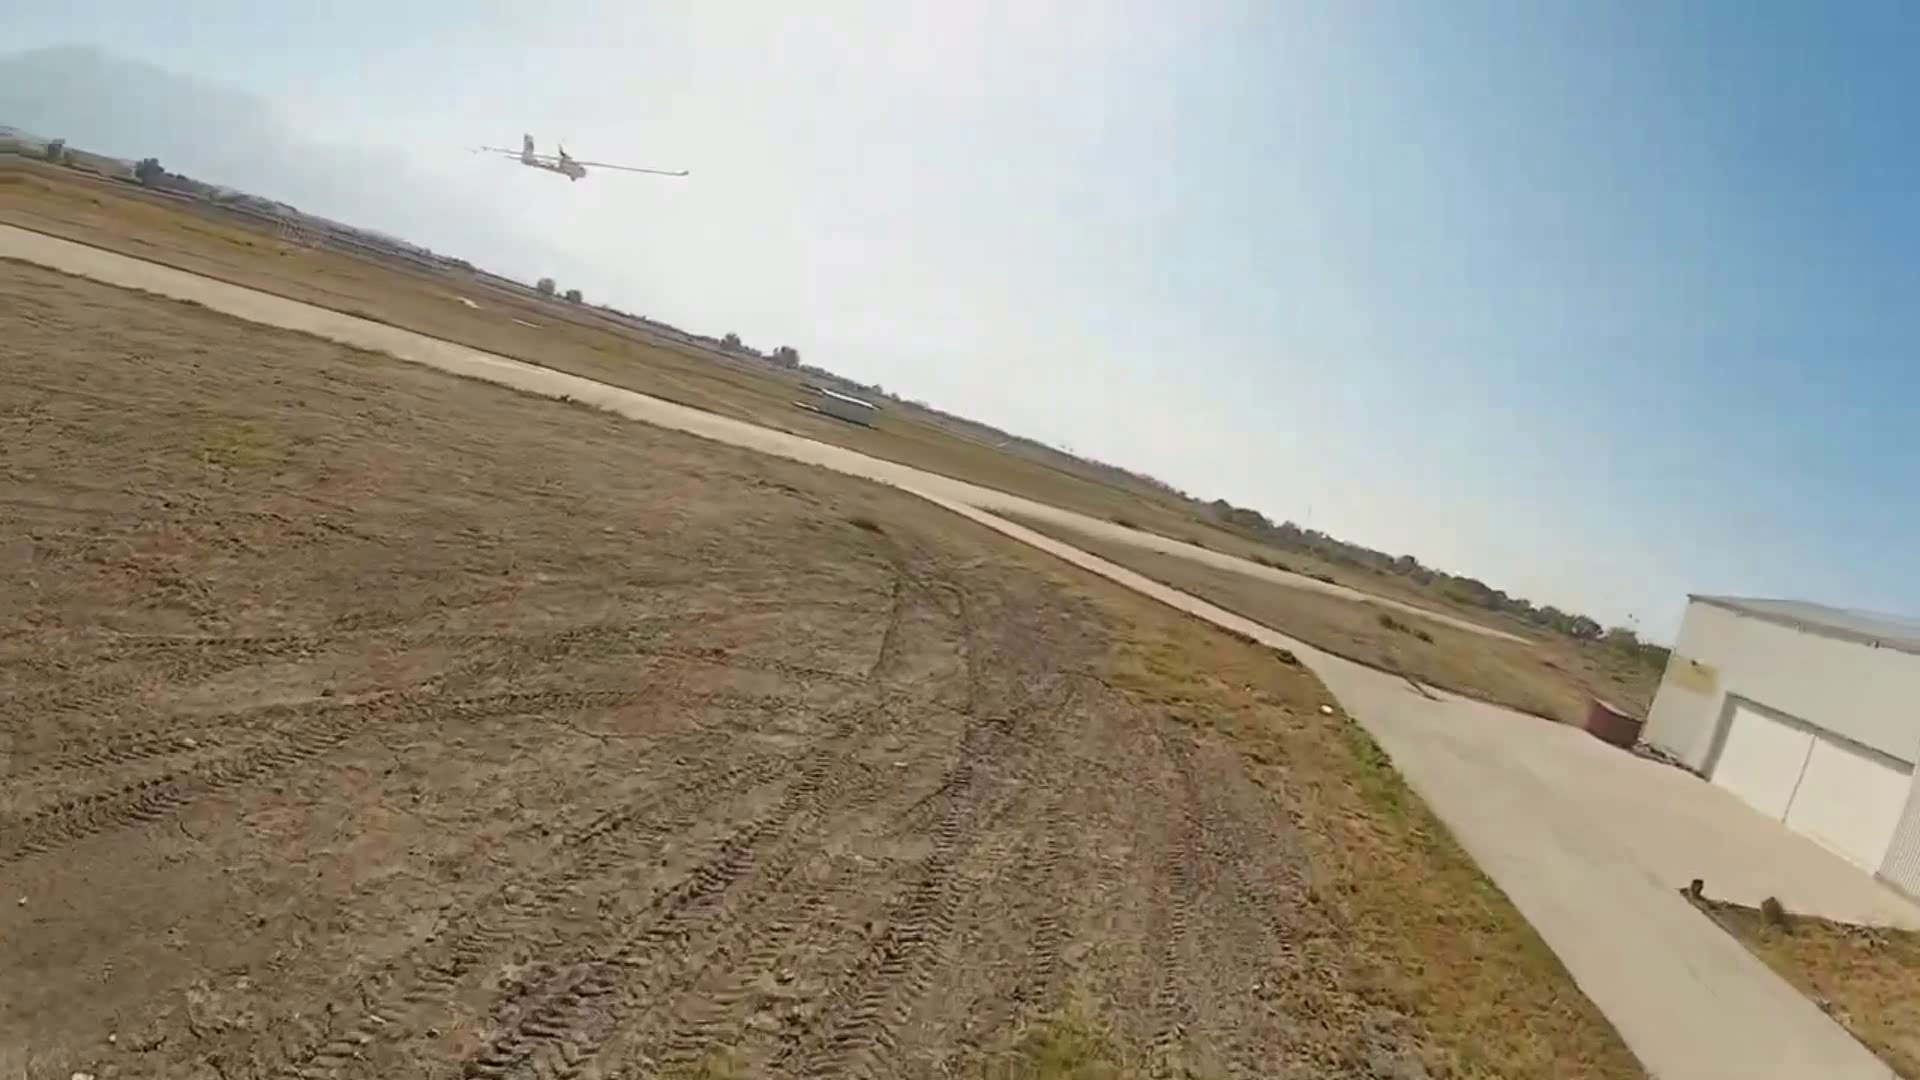airplane: (471, 133, 691, 186)
